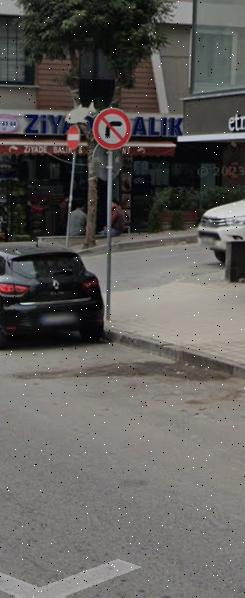rightturnsareforbidden: (96, 110, 129, 146)
